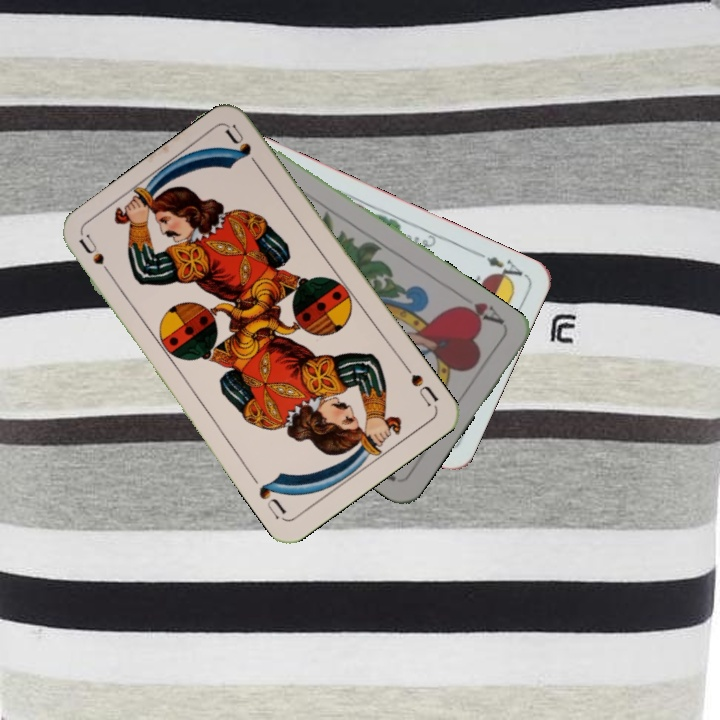EA: (471, 247, 526, 287)
HA: (451, 298, 508, 327)
SU: (75, 230, 119, 284), (399, 359, 441, 410)
